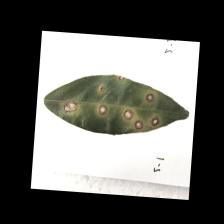canker: (58, 76, 168, 136)
